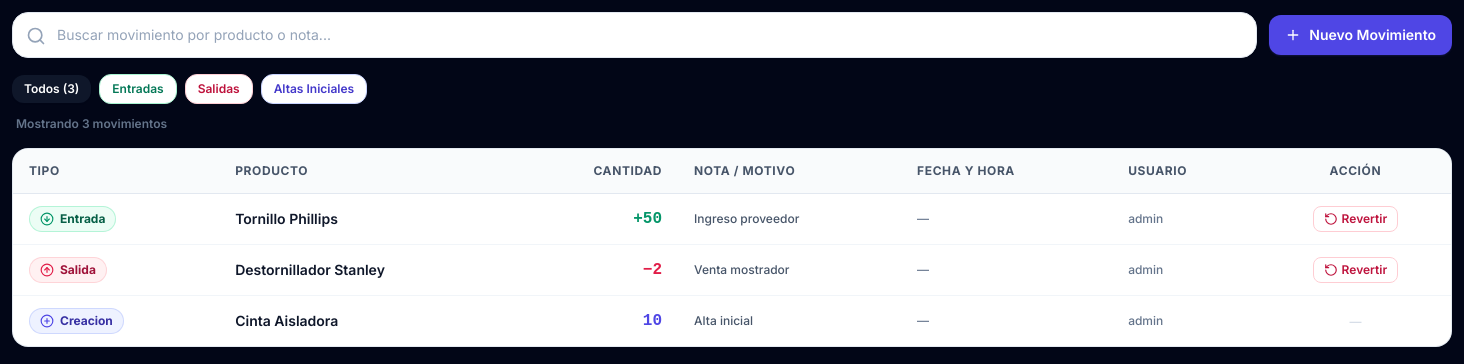
Scenario: MovementsView Component › filtra movimientos por tipo (entradas, salidas, creación)
The width and height of the screenshot is (1464, 364).
Click the button "Salidas".
click(219, 89)  # box [185, 74, 253, 104]
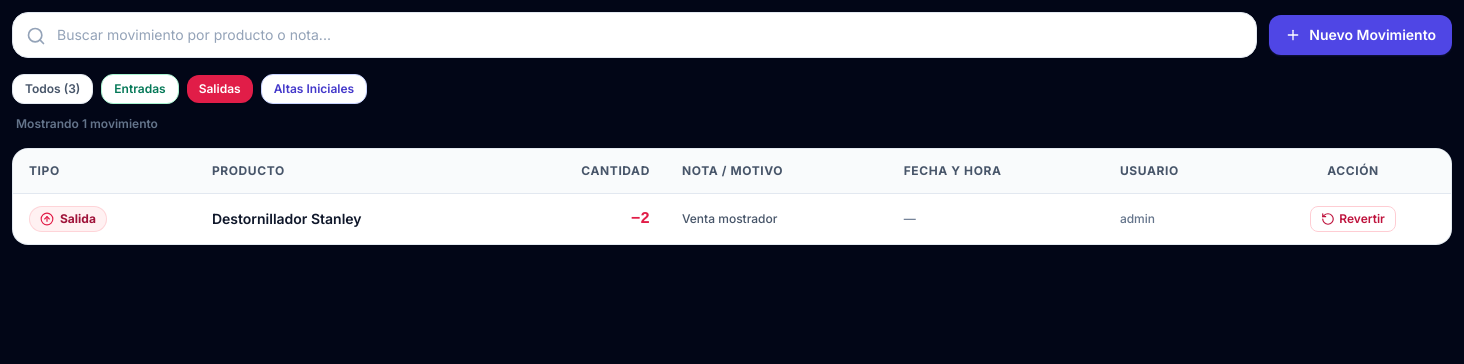
Expected: the text "Destornillador Stanley" is shown, [196, 194, 498, 244]
Now the text "Tornillo Phillips" is gone
